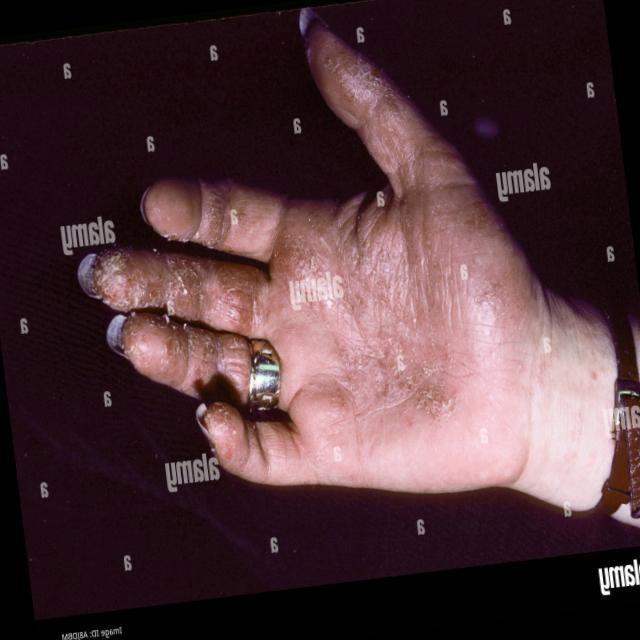Eczema: (299, 222, 494, 416), (92, 252, 254, 321), (335, 46, 421, 175), (142, 327, 248, 395), (174, 191, 262, 249)
